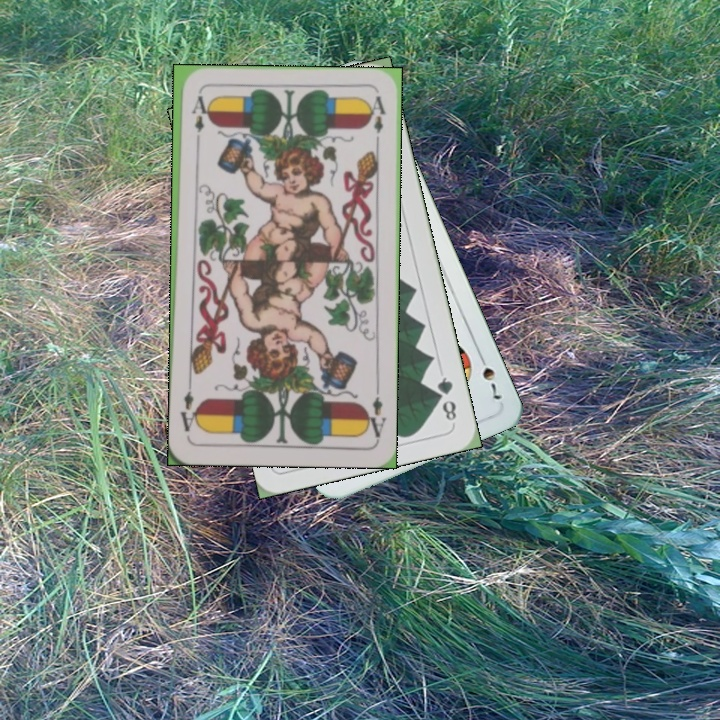EA: (361, 382, 388, 441), (188, 92, 207, 149)
G8: (432, 372, 459, 424)
S7: (474, 348, 505, 403)
